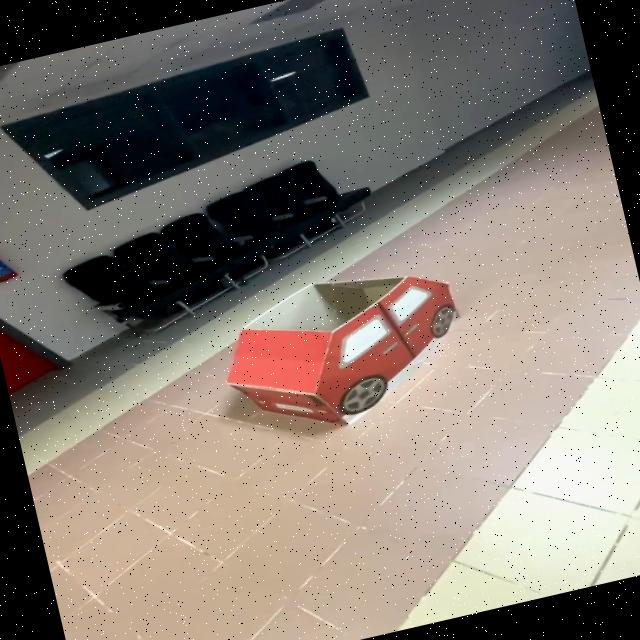red_car: (169, 226, 522, 468)
